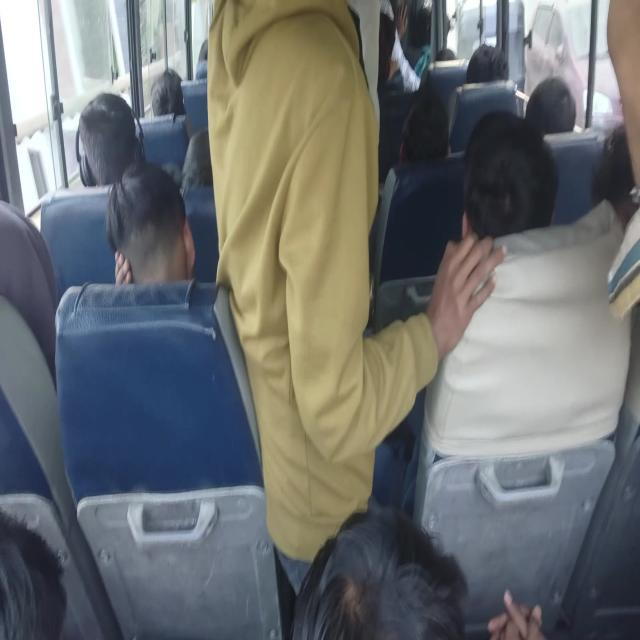person: (204, 0, 385, 318), (591, 43, 640, 330), (475, 108, 561, 246), (285, 532, 378, 640), (124, 162, 178, 294), (1, 190, 53, 318), (24, 532, 80, 640), (74, 107, 140, 180), (595, 103, 640, 203), (526, 66, 568, 140), (406, 109, 454, 164), (419, 0, 453, 52), (142, 70, 178, 116), (466, 44, 502, 86), (190, 136, 220, 186), (197, 32, 226, 63)
